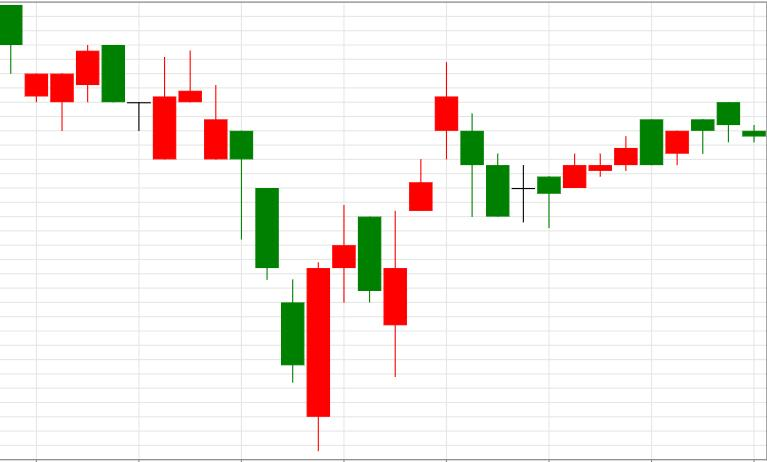bullish_engulfing_rise: (230, 131, 329, 451)
